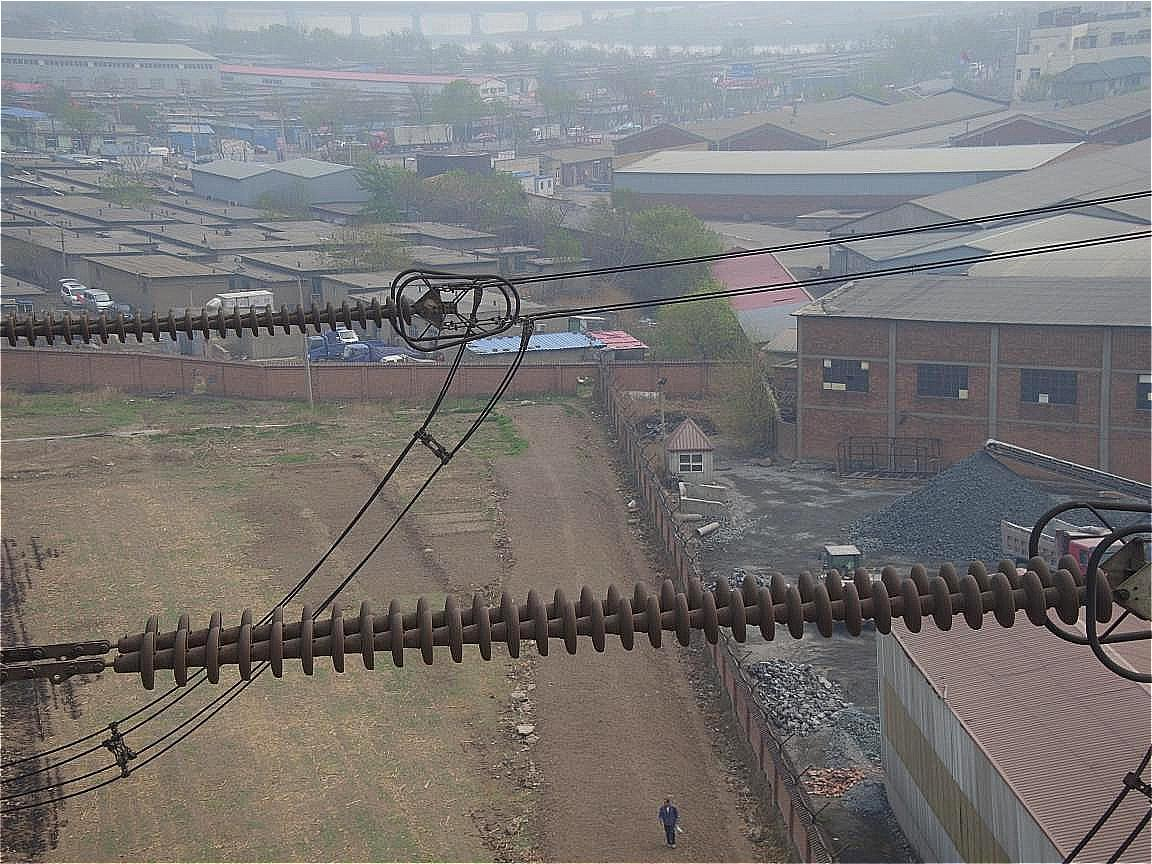insultor1: (140, 554, 1114, 691), (4, 296, 414, 347)
